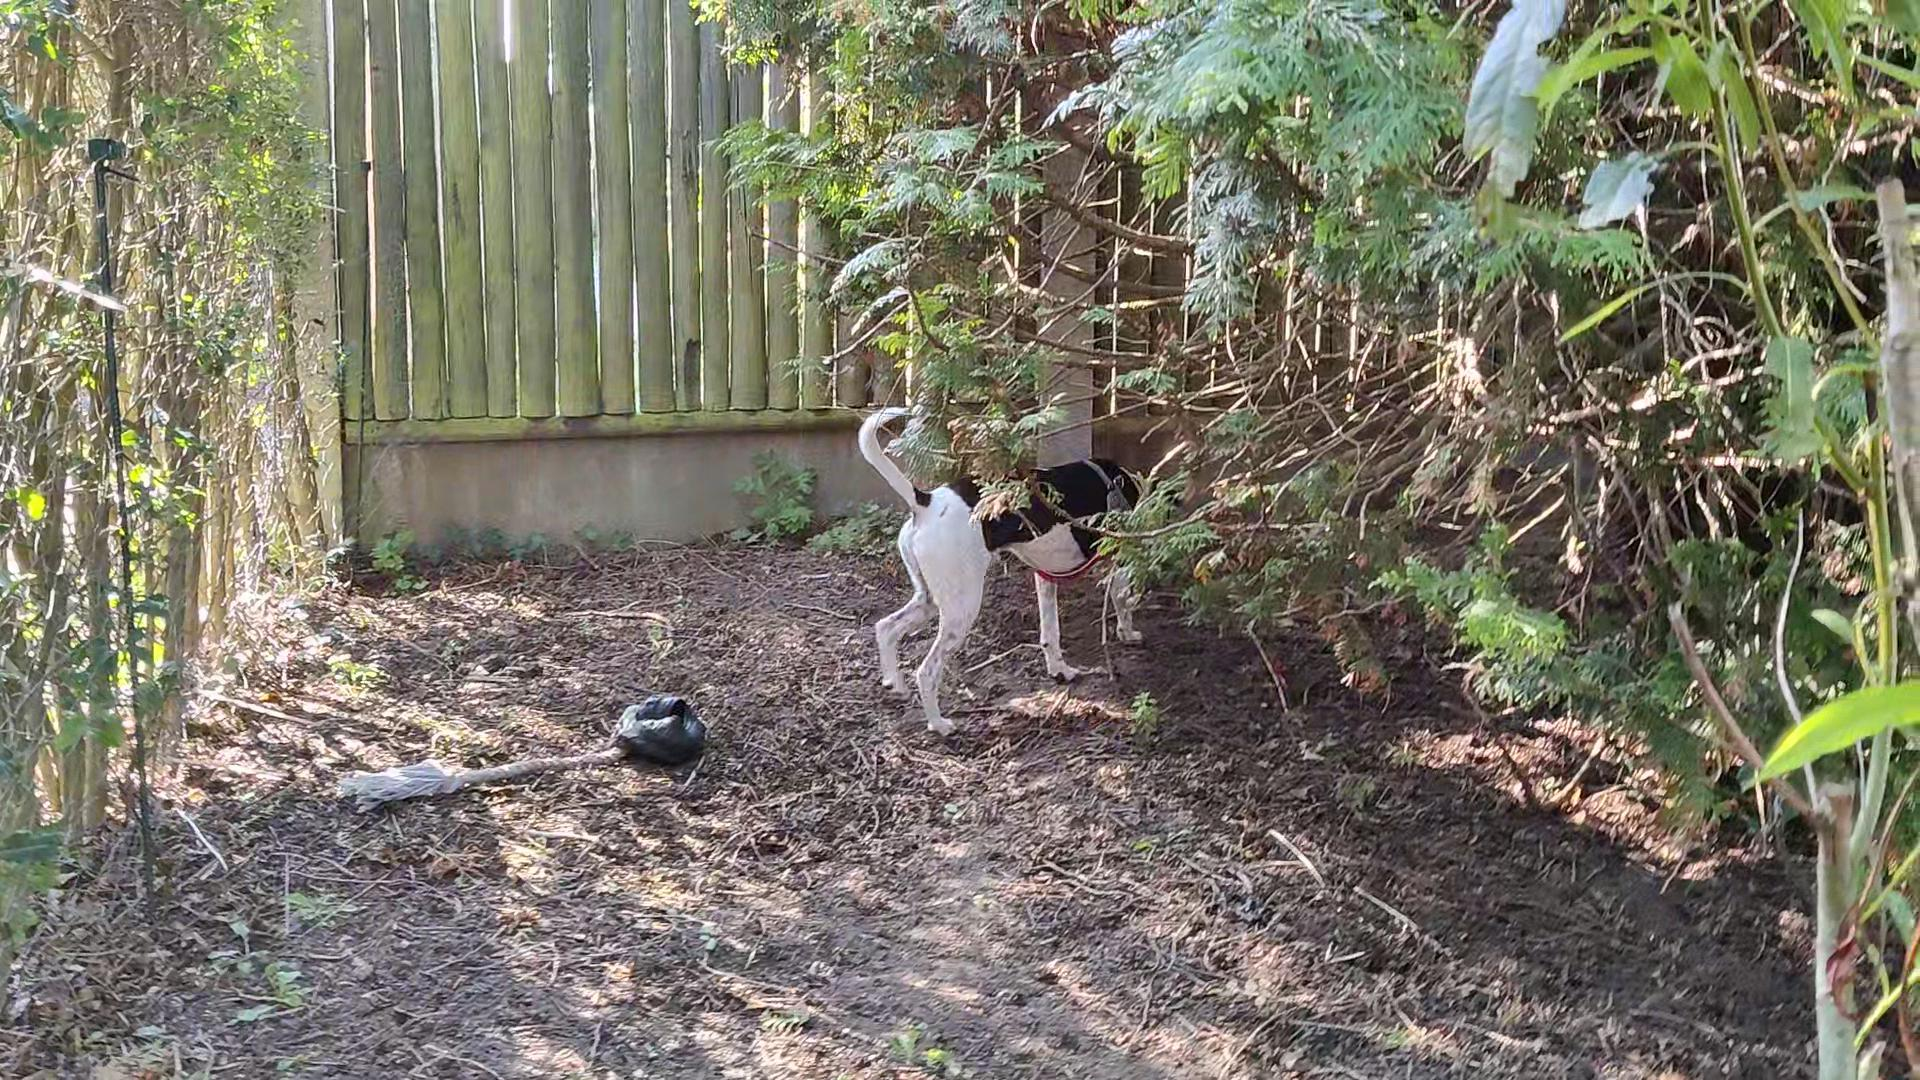Dog: (840, 388, 1193, 746)
